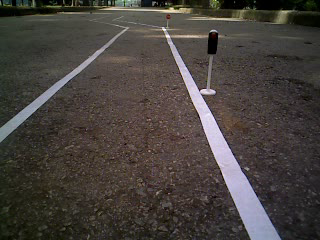Red: (204, 27, 222, 58)
